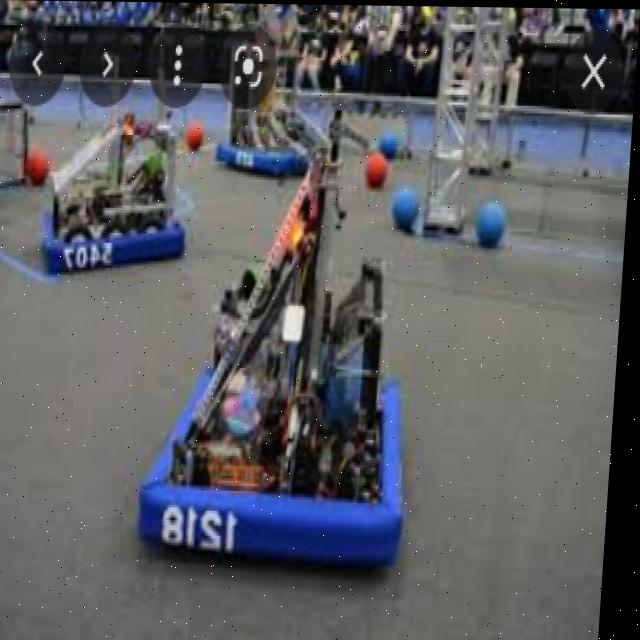robot: (145, 110, 438, 555), (44, 101, 195, 272), (214, 37, 337, 184)
